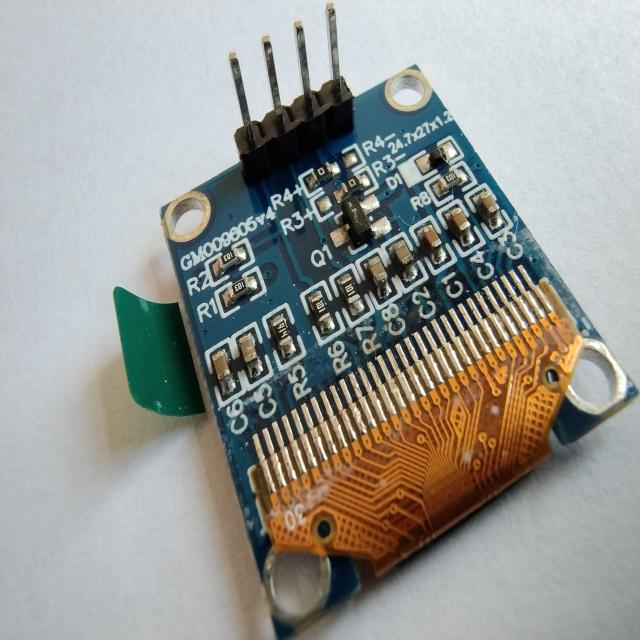oled: (119, 1, 640, 640)
